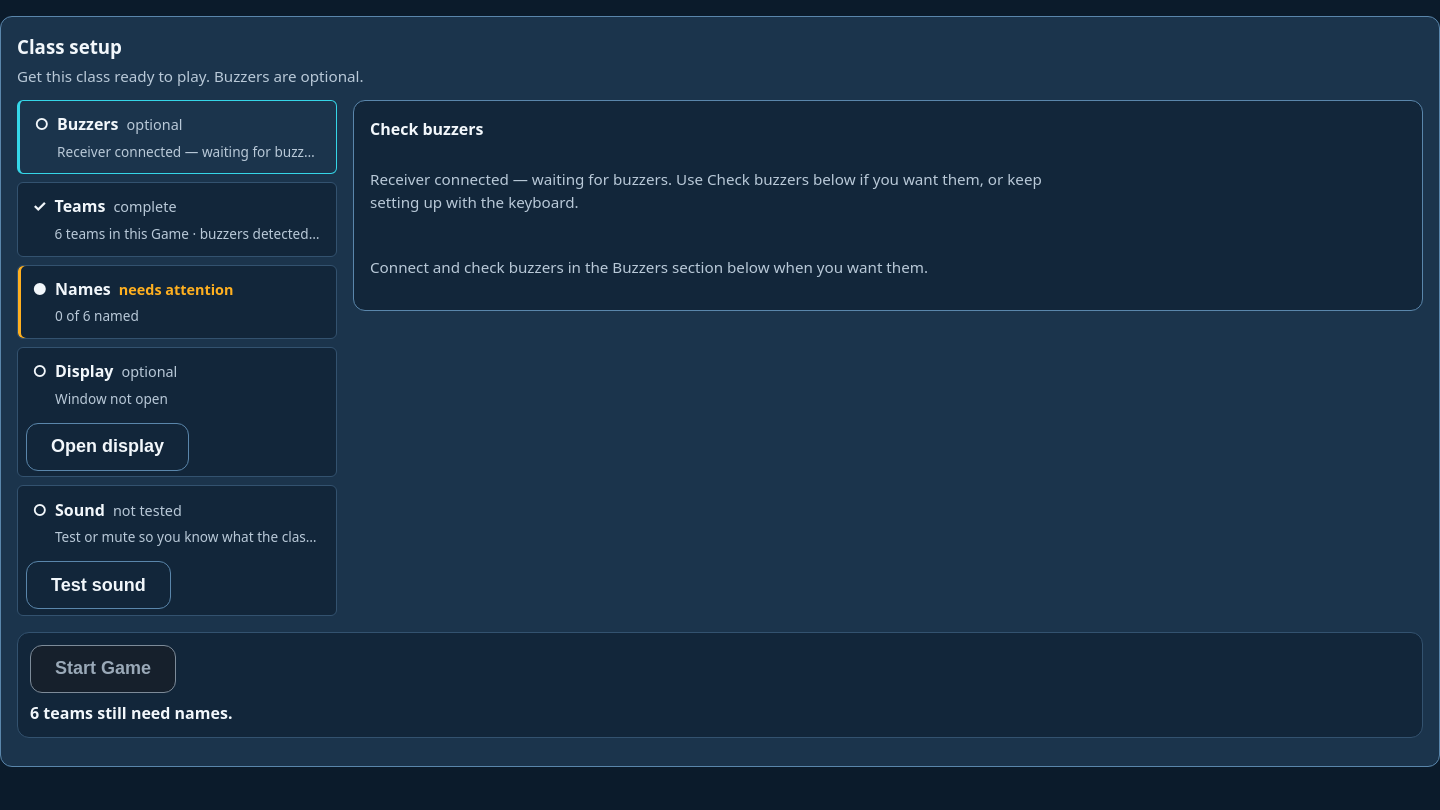
Scenario: ClassroomSetupPanel › does not treat 5–8 Game teams as invalid when buzzers are present
Click the button with test id "readiness-teams": point(177, 219) [26,189,328,250]
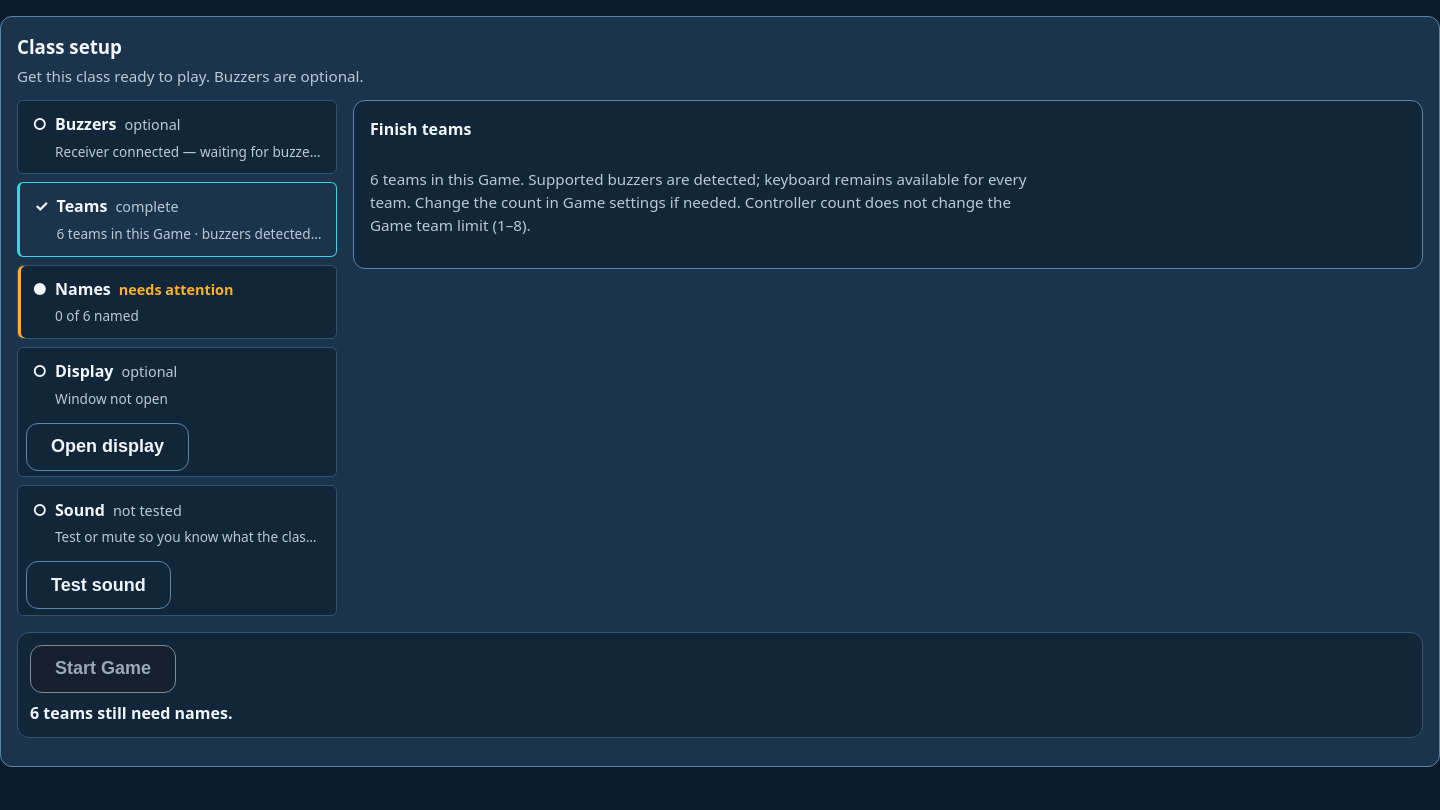
Expected: the text with test id "setup-teams-copy" shows "1–8", [370,169,1026,235]
